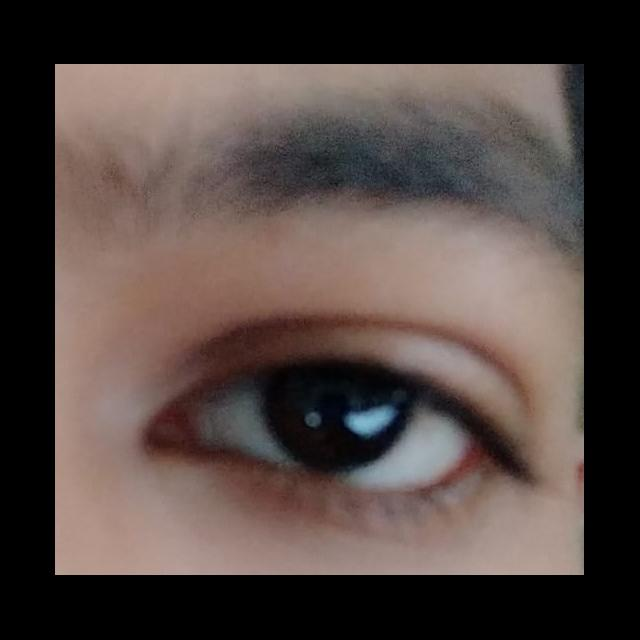eye: (193, 363, 478, 495)
iris: (257, 368, 419, 477)
